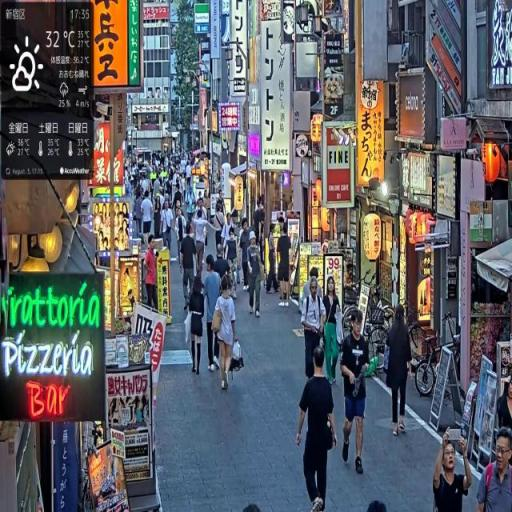person: (297, 347, 339, 512), (340, 306, 372, 480), (385, 304, 414, 439), (433, 432, 473, 512), (215, 277, 240, 395), (478, 429, 512, 511), (301, 273, 326, 383), (204, 255, 225, 373), (323, 275, 344, 386), (186, 276, 207, 377), (247, 231, 264, 317), (191, 198, 209, 279), (276, 224, 293, 307), (181, 227, 198, 304), (144, 237, 160, 312), (240, 224, 253, 296), (267, 224, 280, 296), (162, 199, 175, 258)
